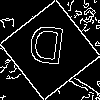D: (25, 25, 67, 74)
